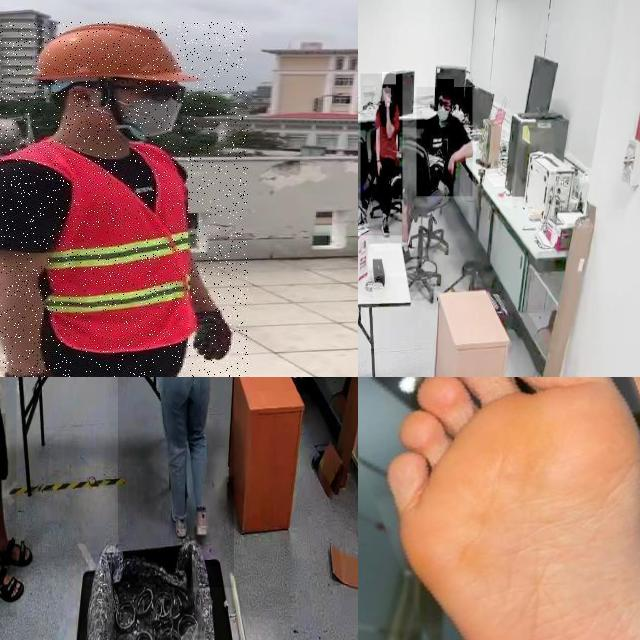Barefoots: (383, 377, 640, 640)
face_mask: (436, 99, 452, 122)
face_nomask: (382, 88, 392, 102)
hand_noglove: (446, 154, 456, 181), (375, 156, 382, 178), (385, 94, 391, 108)
head_helmet: (25, 23, 208, 89)
head_nohelmet: (436, 79, 454, 97), (382, 72, 396, 85)
person: (0, 22, 248, 377), (117, 377, 234, 588), (361, 74, 403, 236), (417, 87, 473, 197)
shoes: (168, 503, 188, 540), (192, 504, 210, 539)
vest: (38, 142, 194, 350)
